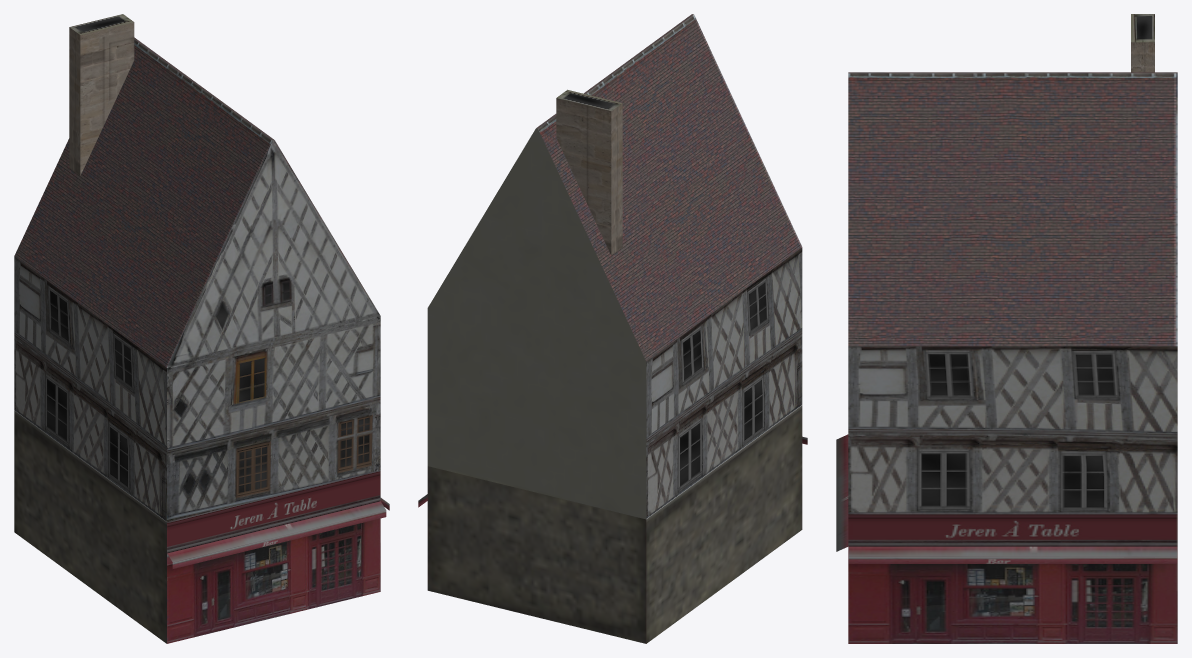
File: small_bar_01.fbx
The picture shows the model from 3 angles, left to right: view 1: azimuth 30°, elevation 25°; view 2: azimuth 150°, elevation 25°; view 3: azimuth 270°, elevation 25°; orthographic projection. The views are drawn at different scales.
Visible parts, largest first — view 1: small_bar_01; view 2: small_bar_01; view 3: small_bar_01.
Part boxes in pixels (x1,y1,x2,y2): small_bar_01: [14, 14, 389, 643]; small_bar_01: [418, 14, 807, 643]; small_bar_01: [836, 14, 1177, 643].
Bounding box in the file's own units: 786 × 1691 × 966.
1 material, 1 textured.
